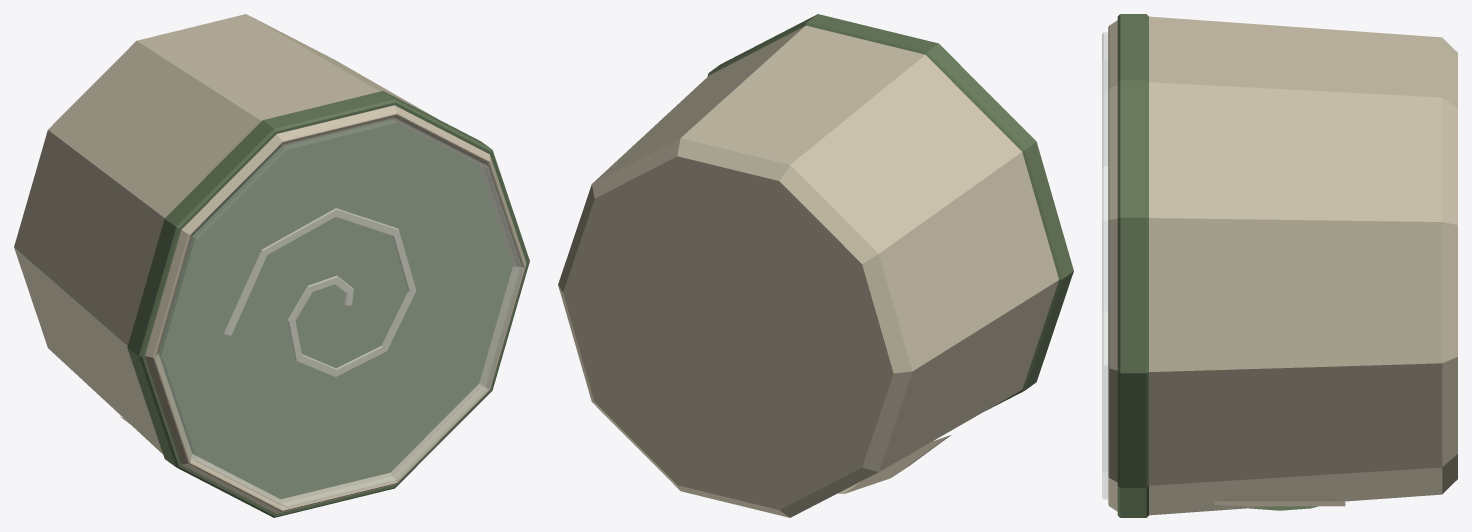
File: mascarpone.glb
3 renders of one model, left to right at view 1: azimuth 30°, elevation 25°; view 2: azimuth 150°, elevation 25°; view 3: azimuth 270°, elevation 25°, orthographic. The views are drawn at different scales.
Parts seen in each view (by area): view 1: mascarpone; view 2: mascarpone; view 3: mascarpone.
Part boxes in pixels (x1,y1,x2,y2): mascarpone: (14, 14, 529, 517); mascarpone: (558, 14, 1073, 517); mascarpone: (1102, 14, 1457, 517).
Bounding box in the file's own units: 0.097 × 0.095 × 0.068.
